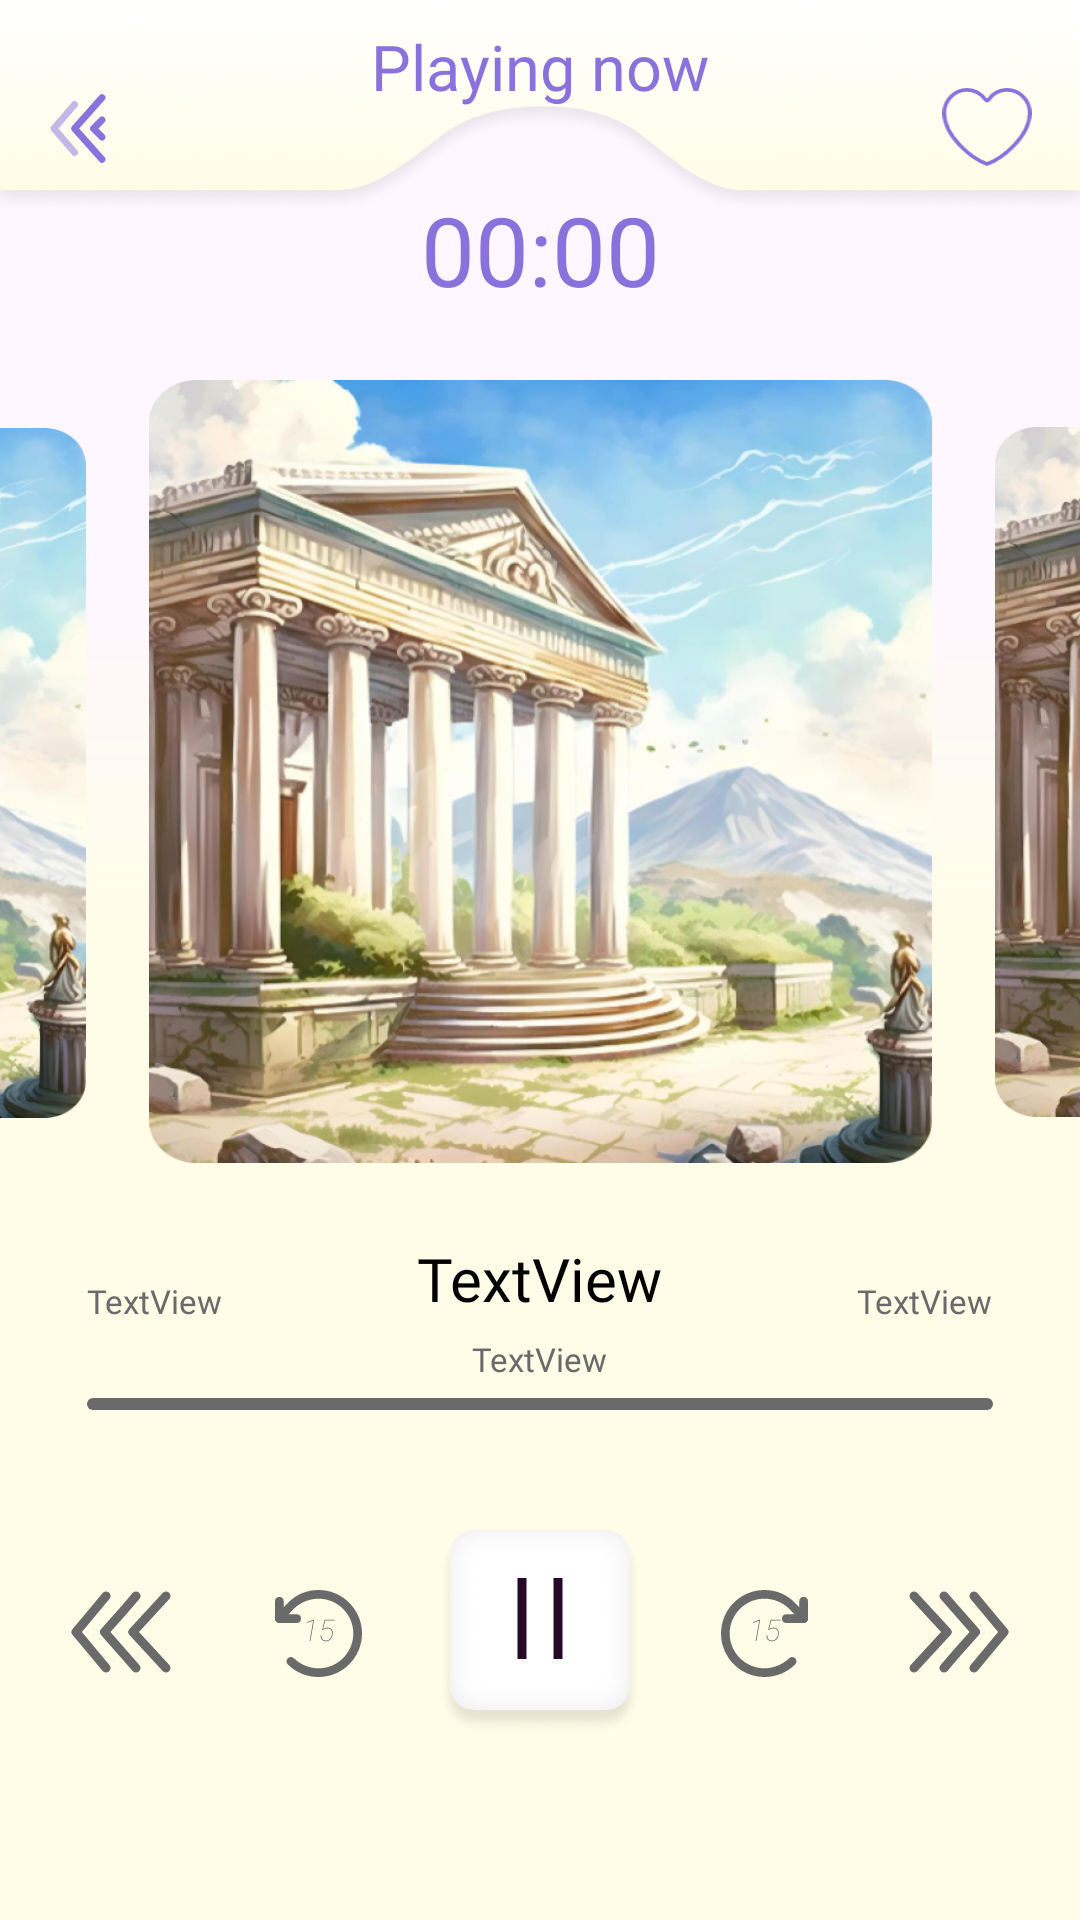

Locate icon controls on the screen. Image size 1080 x 1920, boxes as (x1, y1, x2, y2).
arrow back: (50, 94, 106, 163)
heart false: (942, 88, 1032, 166)
minus sec: (275, 1590, 362, 1677)
pause: (447, 1530, 633, 1724)
plus sec: (721, 1590, 808, 1677)
